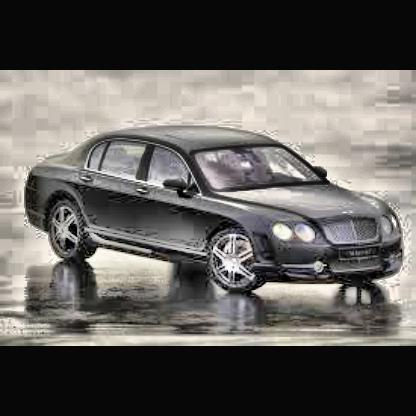Bentley Continental Flying Spur Sedan 2007: (24, 124, 411, 302)
